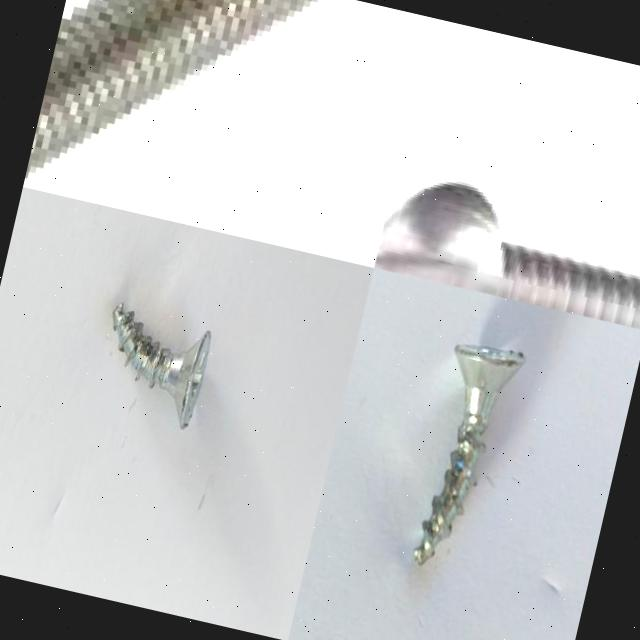Screw: (25, 0, 316, 174), (373, 179, 640, 329), (414, 345, 524, 566), (112, 304, 210, 430)
